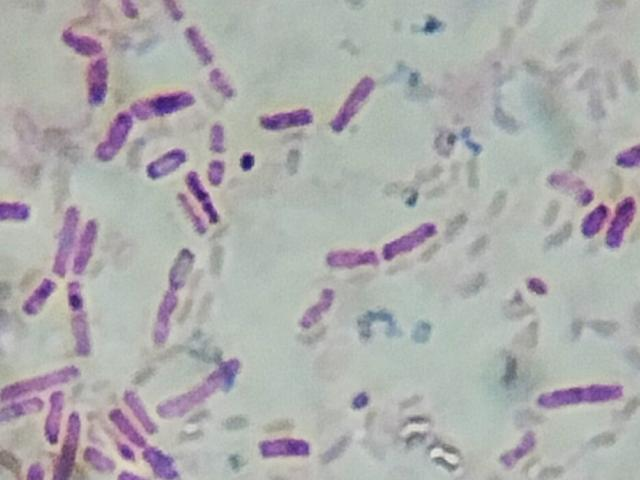E. coli: (162, 352, 245, 430), (539, 377, 628, 419), (331, 73, 376, 139), (0, 361, 88, 393), (484, 426, 543, 472), (383, 216, 440, 262), (293, 283, 337, 333), (66, 282, 96, 352), (256, 104, 318, 137), (259, 425, 311, 463), (183, 169, 218, 225), (135, 86, 190, 121), (609, 190, 637, 256), (25, 273, 63, 321), (151, 285, 182, 342), (548, 165, 593, 203), (125, 387, 161, 433), (171, 193, 204, 243), (162, 246, 198, 290), (60, 409, 84, 475), (77, 215, 102, 277), (58, 195, 80, 265), (96, 109, 127, 157), (0, 398, 45, 428), (83, 56, 111, 103), (111, 408, 143, 448), (328, 245, 374, 272), (142, 149, 184, 177), (613, 131, 640, 174), (46, 389, 68, 440), (183, 23, 211, 63), (0, 190, 30, 227), (579, 199, 607, 238), (139, 449, 176, 477), (53, 27, 96, 51), (208, 65, 235, 102), (208, 119, 230, 160), (82, 447, 111, 475), (24, 456, 55, 480), (115, 0, 139, 22)
